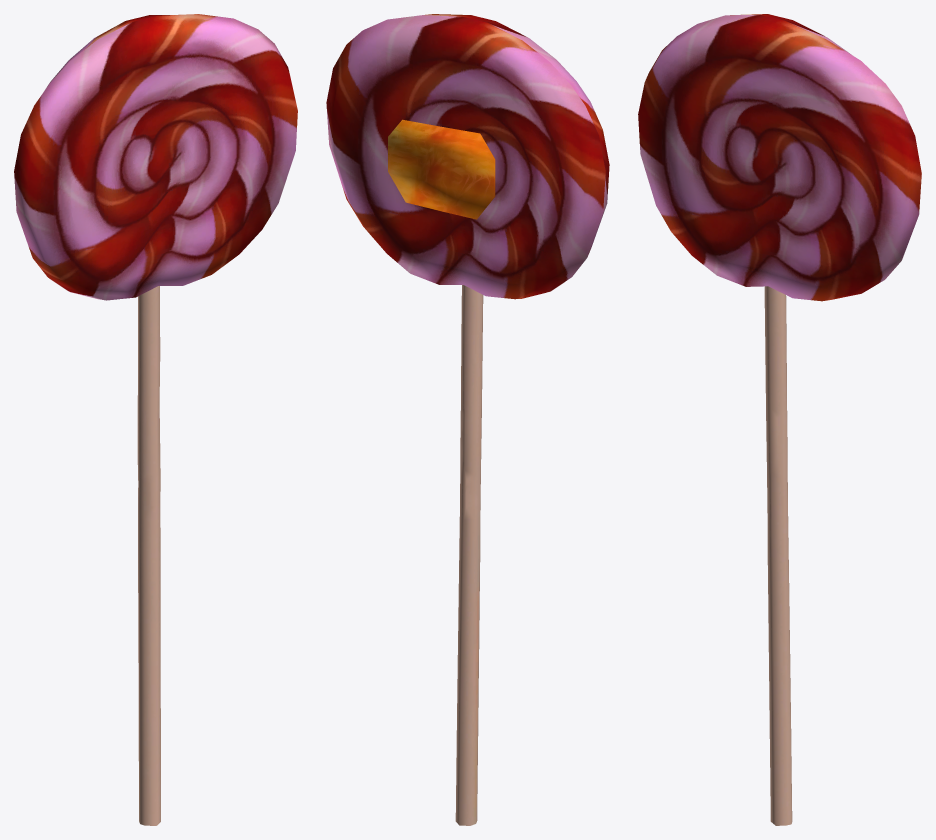
Rendered from candy.obj.
3 views of the same model, side by side, from view 1: azimuth 30°, elevation 25°; view 2: azimuth 150°, elevation 25°; view 3: azimuth 330°, elevation 25° (orthographic).
Parts seen in each view (by area): view 1: candy; view 2: candy; view 3: candy.
Boxes of the visible parts, <box> form: candy: <box>14,14,297,825</box>; candy: <box>326,14,609,825</box>; candy: <box>638,14,921,825</box>.
Size of the model in its own units: 33.62 by 92.25 by 6.8.
1 material, 1 textured.
